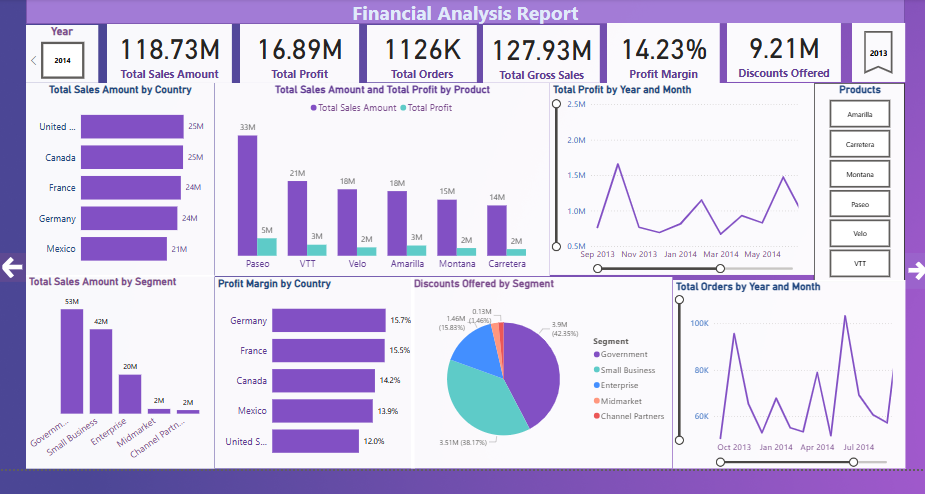

This screenshot's page, from the dashboard's own definition file:
{"tool":"powerbi","page":{"name":"analysis 2","canvas":[1605,813],"ordinal":1},"visuals":[{"type":"shape","box":[45,0,1520,43.3],"z":0},{"type":"card","title":"Profit | Current vs Prior Year","fields":{"Values":["Analysis by measures.Total Profit"]},"box":[415.1,43.2,205.8,100.3],"z":1000},{"type":"card","title":"Orders | Current vs Prior Year","fields":{"Values":["Analysis by measures.Orders"]},"box":[634.7,45,190.2,98.6],"z":2000},{"type":"card","title":"Profit Margin| Current vs Prior Year","fields":{"Values":["Analysis by measures.Profit Margin"]},"box":[1049.8,41.5,195.4,102],"z":3000},{"type":"card","title":"Discounts  | Current vs Prior Year","fields":{"Values":["Analysis by measures.Discounts Offered"]},"box":[1257.4,41.5,197.2,102],"z":4000},{"type":"barChart","fields":{"Category":["financials.Country"],"Y":["Analysis by measures.Total Sales Amount"]},"box":[45,145.3,326.9,333.8],"z":5000},{"type":"barChart","fields":{"Category":["financials.Country"],"Y":["Analysis by measures.Profit Margin"]},"box":[371.8,480.8,311.3,332.1],"z":6000},{"type":"lineChart","fields":{"Category":["Date Table.Date.Variation.Date Hierarchy.Year","Date Table.Date.Variation.Date Hierarchy.Month"],"Y":["Analysis by measures.Total Profit","Analysis by measures.Total Sales Amount"]},"box":[1119,480.8,446.2,332.1],"z":7000},{"type":"slicer","title":"Products","fields":{"Values":["financials.Product"]},"box":[1392.3,145.3,173,333.8],"z":8000},{"type":"actionButton","box":[1565.3,440.1,39.7,62.1],"z":9000},{"type":"actionButton","box":[0,447.9,45,38],"z":10000},{"type":"slicer","title":"Year","fields":{"Values":["Date Table.Date.Variation.Date Hierarchy.Year"]},"box":[45,45,124.5,98.6],"z":11000},{"type":"card","title":"Profit | Current vs Prior Year","fields":{"Values":["Analysis by measures.Total Sales Amount"]},"box":[185.1,43.2,216.2,100.3],"z":12000},{"type":"clusteredColumnChart","fields":{"Category":["financials.Segment"],"Y":["Analysis by measures.Total Sales Amount"]},"box":[45,480.8,326.9,332.1],"z":13000},{"type":"pieChart","fields":{"Category":["financials.Segment"],"Y":["Analysis by measures.Discounts Offered"]},"box":[683.2,480.8,435.8,332.1],"z":14000},{"type":"clusteredColumnChart","fields":{"Category":["financials.Product"],"Y":["Analysis by measures.Total Sales Amount","Analysis by measures.Total Profit"]},"box":[371.8,145.3,581.1,333.8],"z":15000},{"type":"stackedAreaChart","fields":{"Category":["Date Table.Date.Variation.Date Hierarchy.Year","Date Table.Date.Variation.Date Hierarchy.Month"],"Y":["Analysis by measures.Total Orders"]},"box":[953,145.3,439.3,333.8],"z":16000},{"type":"card","title":"Discounts  | Current vs Prior Year","fields":{"Values":["Analysis by measures.Total Gross Sales"]},"box":[835.4,45,202.4,100.3],"z":17000},{"type":"actionButton","box":[1473.6,41.5,91.7,102],"z":18000}]}

Visuals, with their boxes on the page's 1605x813 design canvas (x1, y1, x2, y2). These are canvas units, not pixel positions in the 925x494 screenshot, which may show the page scaled, cropped or inside an application window:
shape: <box>45,0,1565,43</box>
"Profit | Current vs Prior Year" card: <box>415,43,621,144</box>
"Orders | Current vs Prior Year" card: <box>635,45,825,144</box>
"Profit Margin| Current vs Prior Year" card: <box>1050,42,1245,144</box>
"Discounts  | Current vs Prior Year" card: <box>1257,42,1455,144</box>
barChart - financials.Country x Analysis by measures.Total Sales Amount: <box>45,145,372,479</box>
barChart - financials.Country x Analysis by measures.Profit Margin: <box>372,481,683,813</box>
lineChart - Date Table.Date.Variation.Date Hierarchy.Year x Date Table.Date.Variation.Date Hierarchy.Month: <box>1119,481,1565,813</box>
"Products" slicer: <box>1392,145,1565,479</box>
actionButton: <box>1565,440,1605,502</box>
actionButton: <box>0,448,45,486</box>
"Year" slicer: <box>45,45,170,144</box>
"Profit | Current vs Prior Year" card: <box>185,43,401,144</box>
clusteredColumnChart - financials.Segment x Analysis by measures.Total Sales Amount: <box>45,481,372,813</box>
pieChart - financials.Segment x Analysis by measures.Discounts Offered: <box>683,481,1119,813</box>
clusteredColumnChart - financials.Product x Analysis by measures.Total Sales Amount: <box>372,145,953,479</box>
stackedAreaChart - Date Table.Date.Variation.Date Hierarchy.Year x Date Table.Date.Variation.Date Hierarchy.Month: <box>953,145,1392,479</box>
"Discounts  | Current vs Prior Year" card: <box>835,45,1038,145</box>
actionButton: <box>1474,42,1565,144</box>
